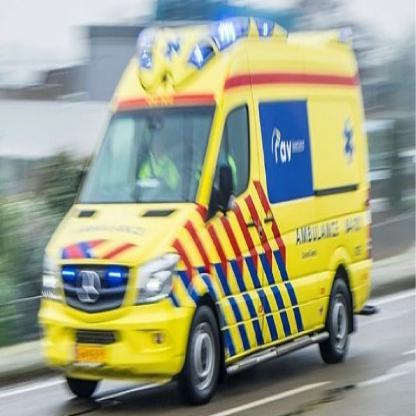Ambulance - v1 Ambulance last generate: (41, 40, 373, 392)
